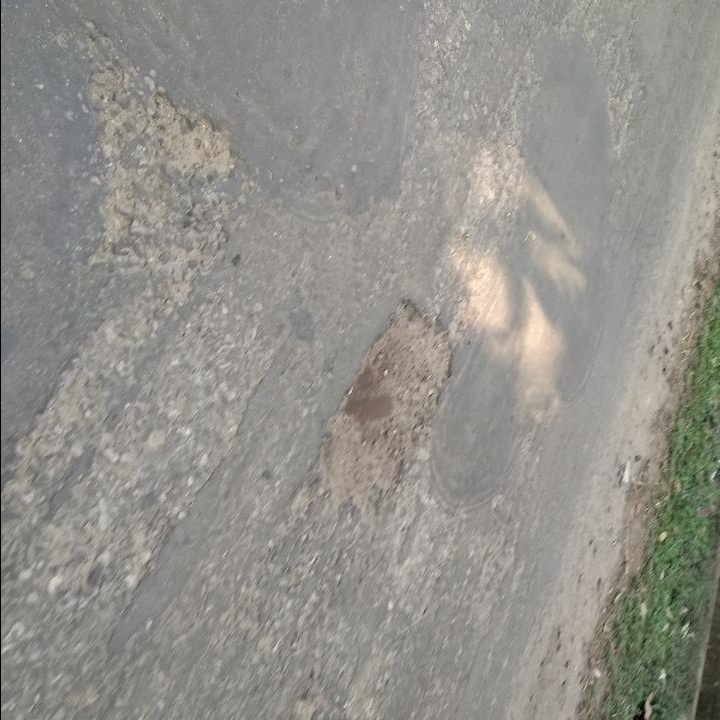pothole: (309, 294, 456, 530), (147, 89, 243, 181)
